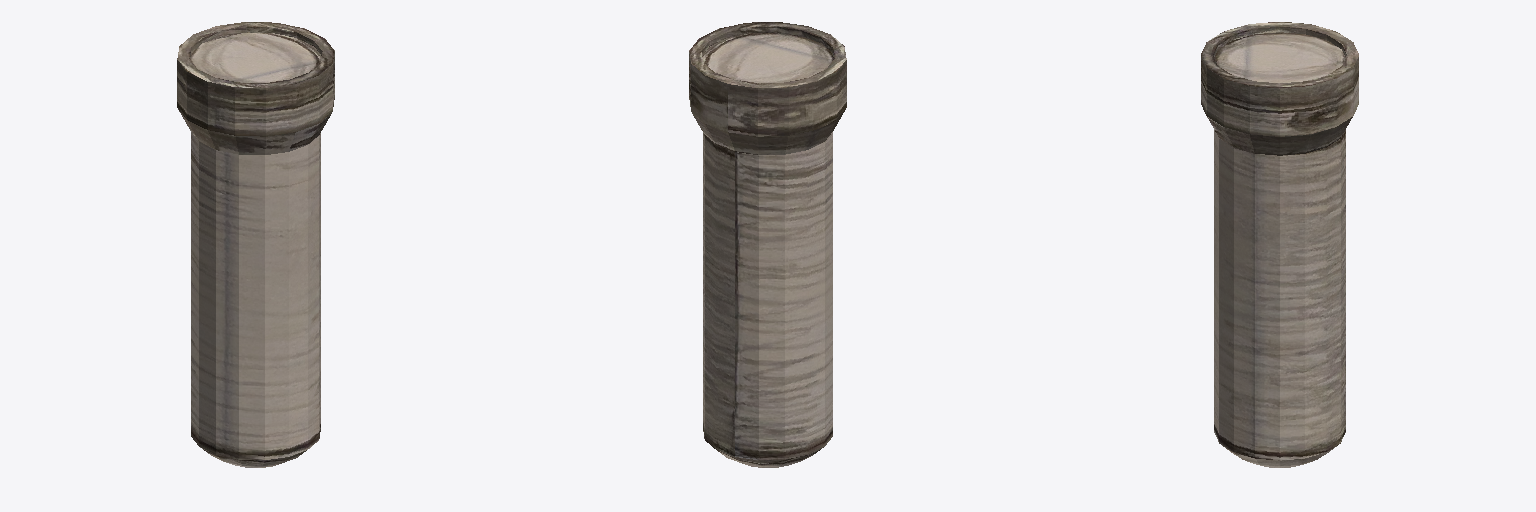
3 views of the same model, side by side, from view 1: azimuth 30°, elevation 25°; view 2: azimuth 150°, elevation 25°; view 3: azimuth 270°, elevation 25° (orthographic).
Parts seen in each view (by area): view 1: flashlight; view 2: flashlight; view 3: flashlight.
Part boxes in pixels (bbox=[...]): flashlight: bbox=[177, 22, 334, 467]; flashlight: bbox=[689, 22, 846, 467]; flashlight: bbox=[1201, 22, 1358, 467].
Bounding box in the file's own units: 0.2136 × 0.5965 × 0.2136.
1 materials, 1 textured.